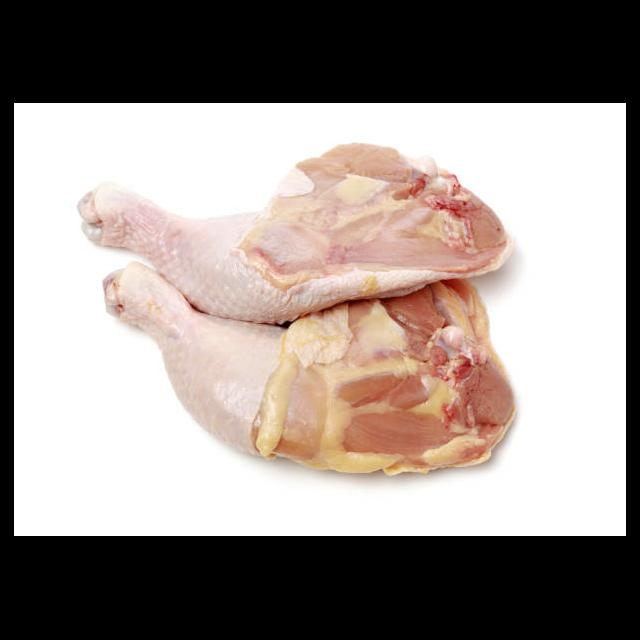chicken: (75, 142, 520, 478)
